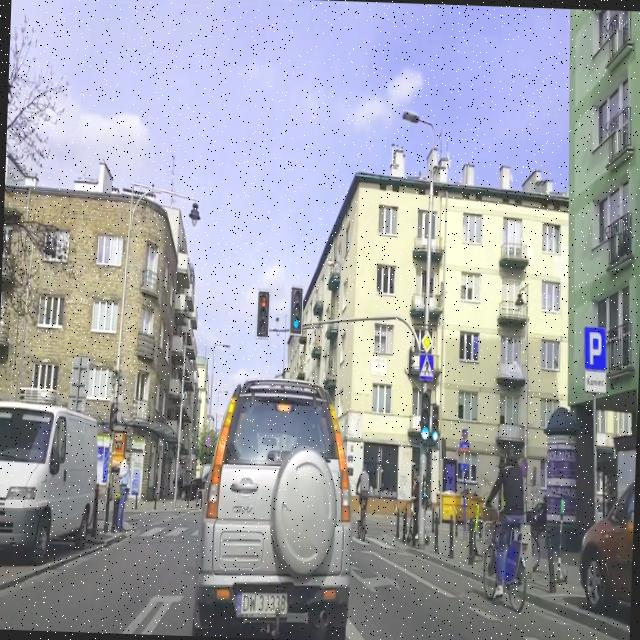Droga z pierwszenstwem: (421, 330, 434, 352)
Przejscie dla pieszych: (418, 352, 434, 379)
Zakaz zatrzymywania sie: (520, 457, 528, 476), (204, 434, 210, 447)
